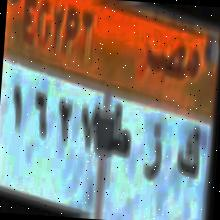1: (6, 81, 26, 138)
2: (54, 94, 75, 146)
6: (33, 88, 49, 139)
7: (77, 101, 102, 155)
Taa: (106, 99, 136, 165)
kaaf: (176, 121, 202, 186)
zay: (140, 116, 168, 188)
